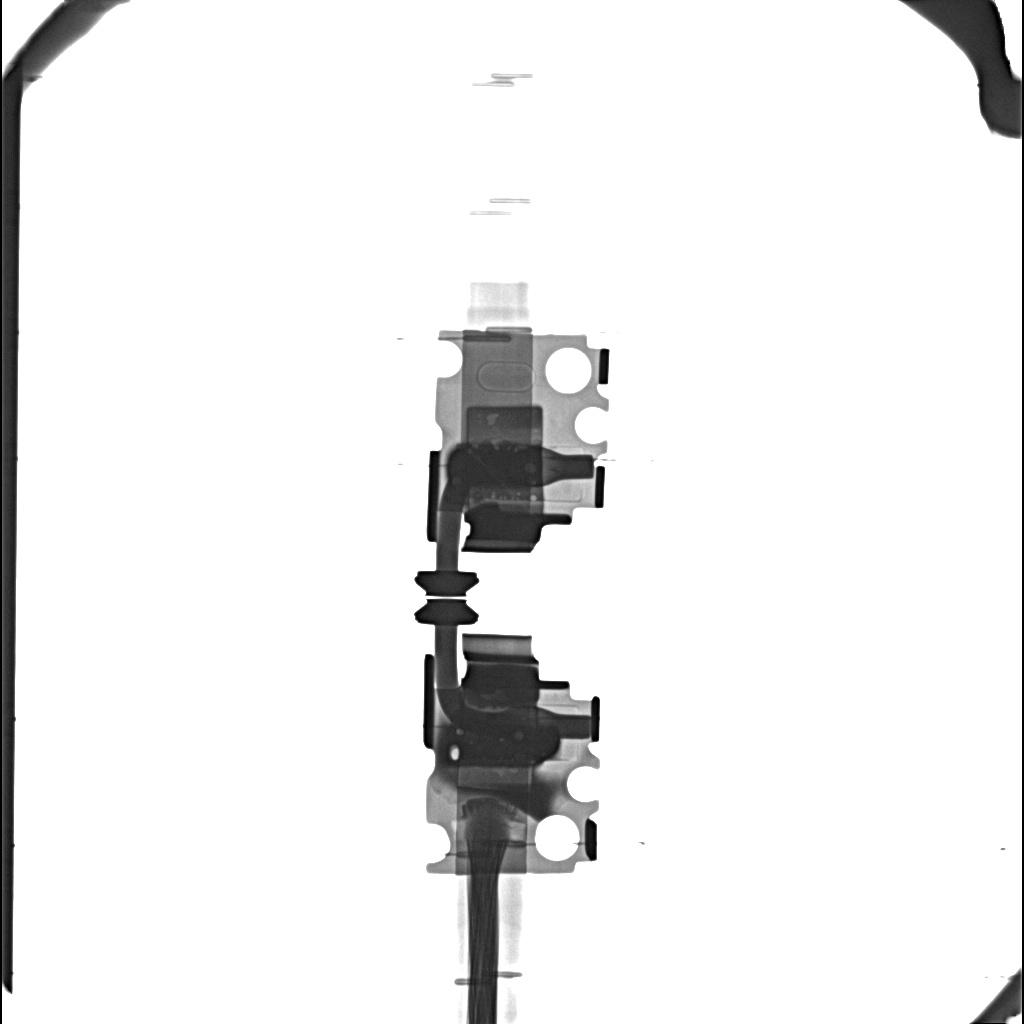PX: (465, 405, 544, 443), (456, 769, 535, 794)
QP: (529, 494, 537, 501)
SX: (442, 724, 559, 766), (449, 445, 544, 486)
